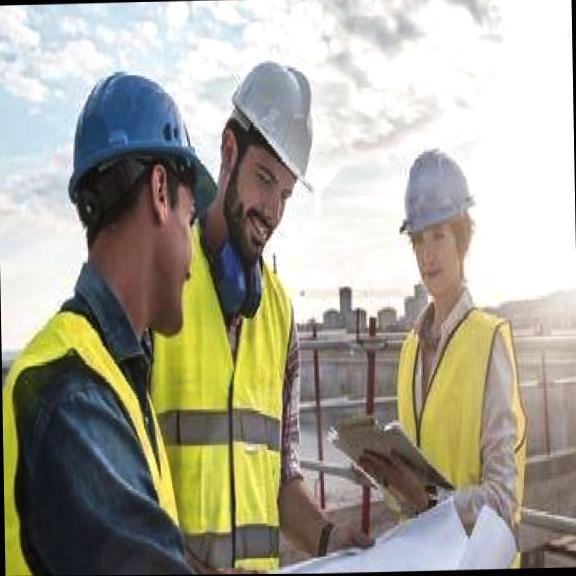safety_vest: (0, 314, 195, 576), (172, 268, 291, 575), (394, 293, 512, 509)
